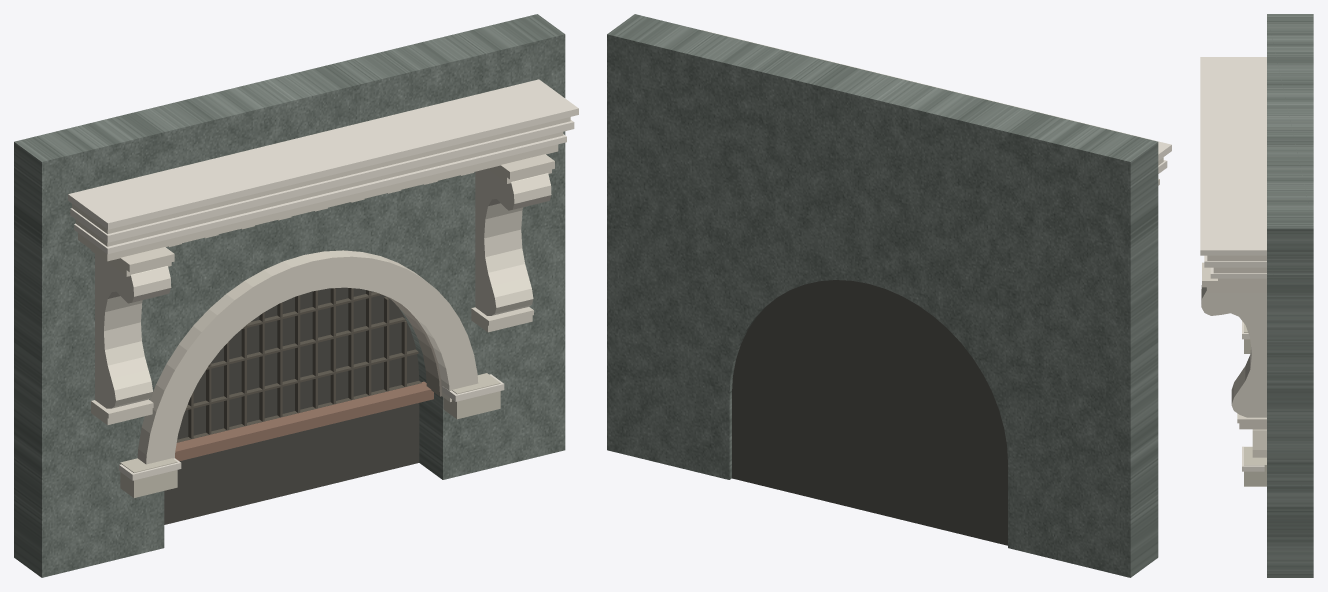
Rendered from north-sichuan-2305-arched-hood-far.glb.
3 views of the same model, side by side, from view 1: azimuth 30°, elevation 25°; view 2: azimuth 150°, elevation 25°; view 3: azimuth 270°, elevation 25° (orthographic). The views are drawn at different scales.
Visible parts, largest first — view 1: 四川北路2305号住宅弧券门头与双曲托; view 2: 四川北路2305号住宅弧券门头与双曲托; view 3: 四川北路2305号住宅弧券门头与双曲托.
Boxes of the visible parts, left/top/right/bottom form: 四川北路2305号住宅弧券门头与双曲托: left=14, top=14, right=578, bottom=577; 四川北路2305号住宅弧券门头与双曲托: left=607, top=14, right=1171, bottom=577; 四川北路2305号住宅弧券门头与双曲托: left=1200, top=14, right=1313, bottom=577.
Size of the model in its own units: 3.24 by 2.46 by 0.725.
9 materials, 1 textured.
